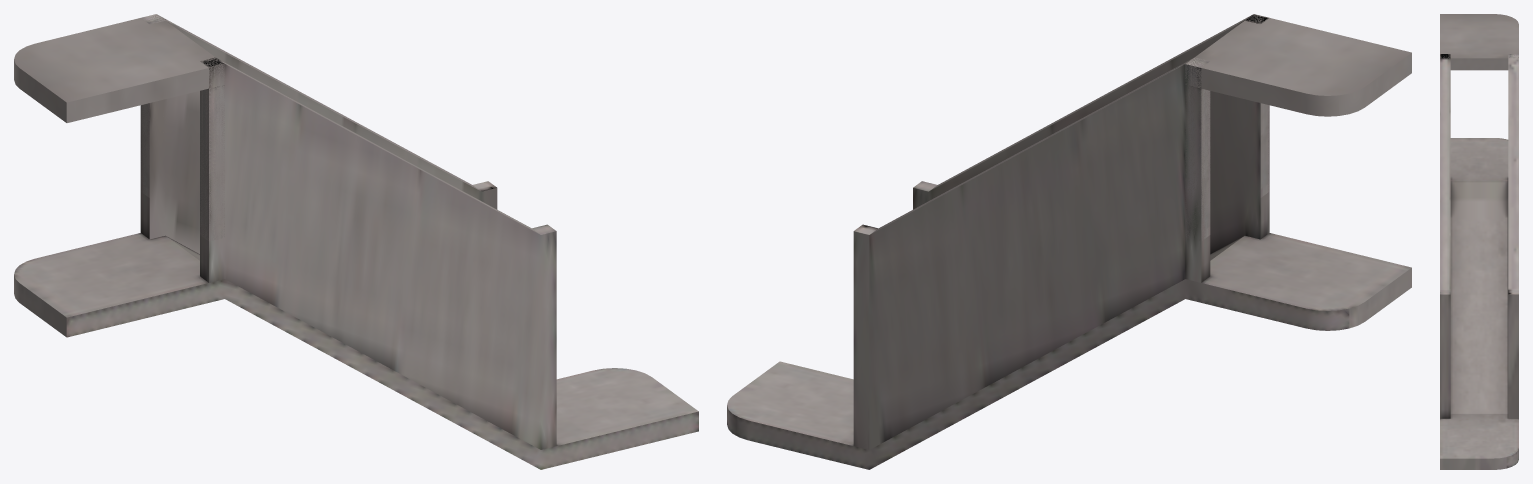
The picture shows the model from 3 angles, left to right: view 1: azimuth 30°, elevation 25°; view 2: azimuth 150°, elevation 25°; view 3: azimuth 270°, elevation 25°; orthographic projection. The views are drawn at different scales.
Visible parts, largest first — view 1: Cube.009, Cube.008, Cube.023, Cube.011, Cube.022, Cube.021; view 2: Cube.011, Cube.008, Cube.023, Cube.009, Cube.021, Cube.022; view 3: Cube.008, Cube.023, Cube.011, Cube.009.
Part boxes in pixels (<box>): Cube.009: <box>200,57,556,449</box>; Cube.008: <box>14,233,698,469</box>; Cube.023: <box>14,14,224,122</box>; Cube.011: <box>140,14,497,253</box>; Cube.022: <box>200,85,224,240</box>; Cube.021: <box>140,103,149,197</box>; Cube.011: <box>853,58,1210,449</box>; Cube.008: <box>727,233,1411,469</box>; Cube.023: <box>1185,14,1411,116</box>; Cube.009: <box>913,14,1269,253</box>; Cube.021: <box>1185,86,1210,240</box>; Cube.022: <box>1260,103,1269,197</box>; Cube.008: <box>1440,138,1518,469</box>; Cube.023: <box>1440,14,1518,70</box>; Cube.011: <box>1508,54,1518,418</box>; Cube.009: <box>1440,54,1450,418</box>.
Bounding box in the file's own units: 16 × 11.68 × 3.
2 materials, 2 textured.
